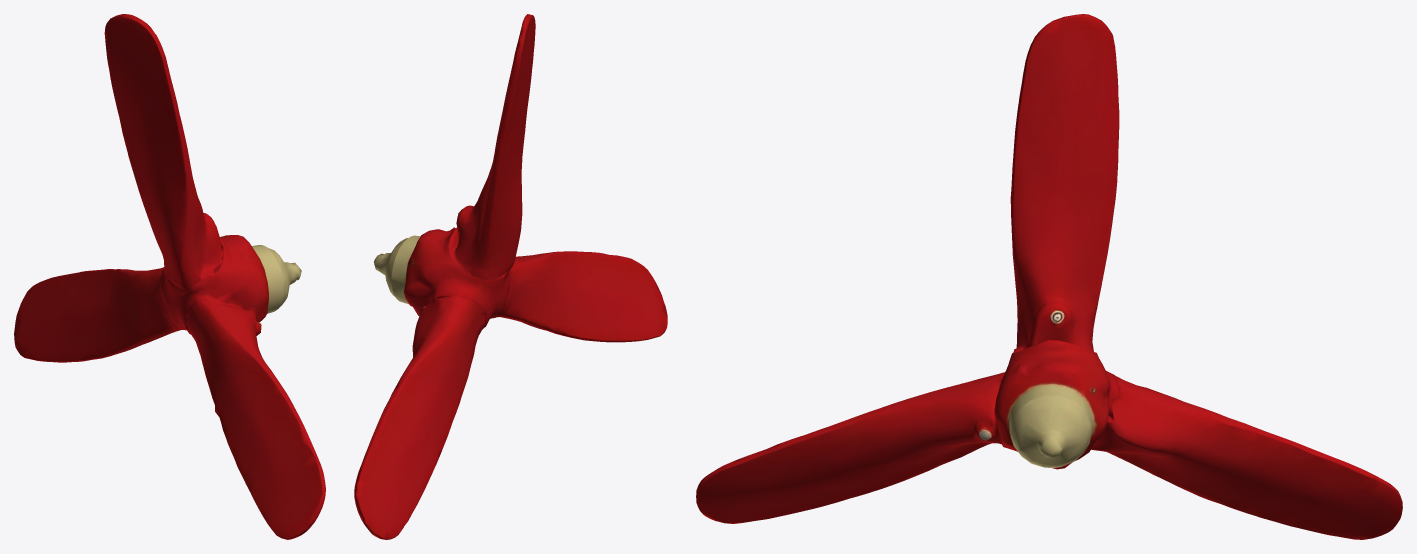
File: fan-propeller.glb
3 renders of one model, left to right at view 1: azimuth 30°, elevation 25°; view 2: azimuth 150°, elevation 25°; view 3: azimuth 270°, elevation 25°, orthographic. The views are drawn at different scales.
Visible parts, largest first — view 1: tripo_node_9f3c5acb-31db-4728-a64f-3b17b6763102; view 2: tripo_node_9f3c5acb-31db-4728-a64f-3b17b6763102; view 3: tripo_node_9f3c5acb-31db-4728-a64f-3b17b6763102.
Part boxes in pixels (x1,y1,x2,y2): tripo_node_9f3c5acb-31db-4728-a64f-3b17b6763102: (14, 14, 325, 539); tripo_node_9f3c5acb-31db-4728-a64f-3b17b6763102: (354, 14, 667, 539); tripo_node_9f3c5acb-31db-4728-a64f-3b17b6763102: (696, 14, 1402, 539).
Bounding box in the file's own units: 0.336 × 0.8071 × 1.
Materials: 1 (1 with a texture image).
